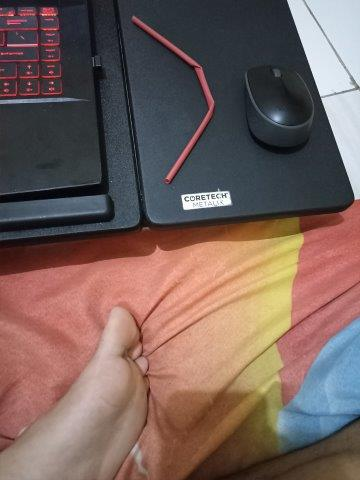sedotan: (131, 15, 215, 184)
